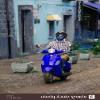motorcycles: (38, 48, 70, 84)
